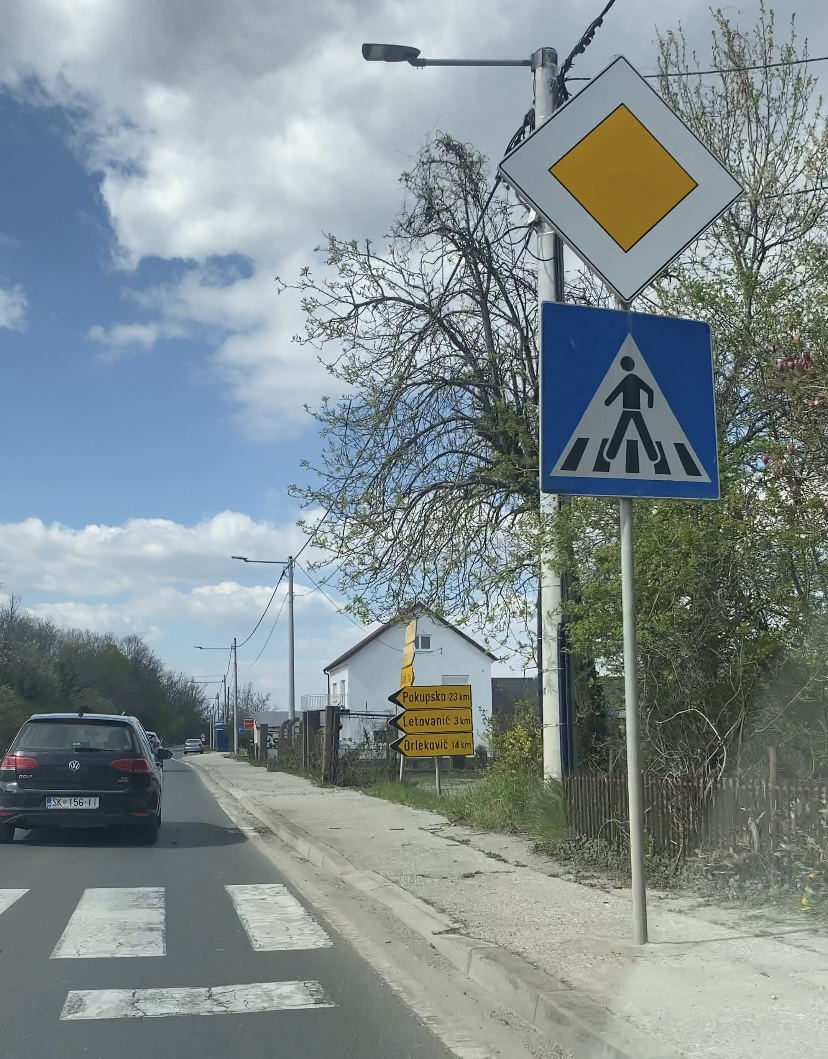Cesta s prednošću prolaska: (497, 54, 745, 304)
Pješački prijelaz: (541, 302, 721, 501)
